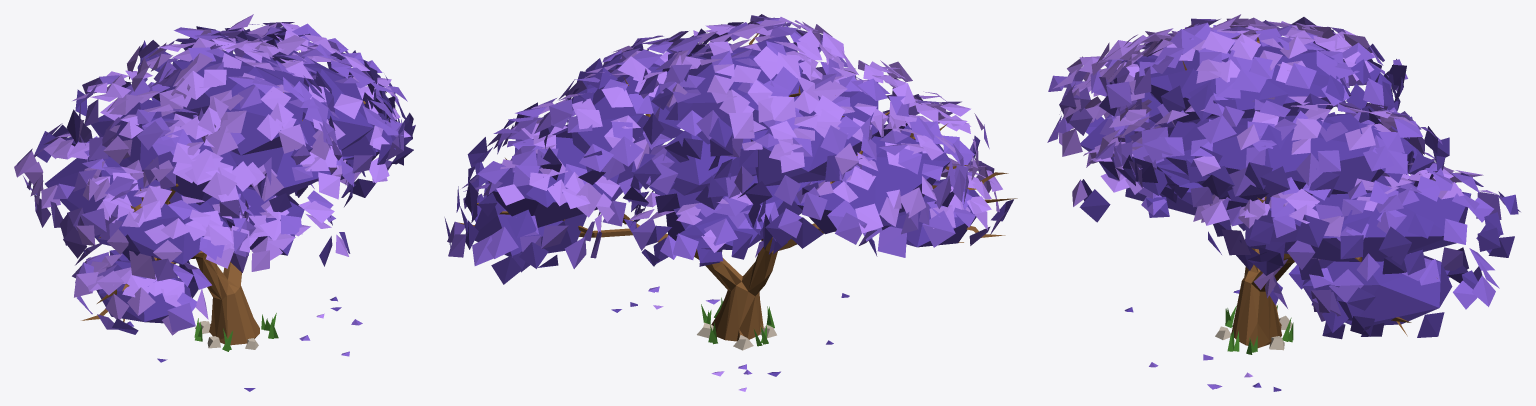
The model's file is jacaranda_1_bloom.glb.
3 renders of one model, left to right at view 1: azimuth 30°, elevation 25°; view 2: azimuth 150°, elevation 25°; view 3: azimuth 270°, elevation 25°, orthographic. The views are drawn at different scales.
Parts seen in each view (by area): view 1: jacaranda_1_bloom; view 2: jacaranda_1_bloom; view 3: jacaranda_1_bloom.
Part boxes in pixels (x1,y1,x2,y2): jacaranda_1_bloom: (14,14,415,391); jacaranda_1_bloom: (444,14,1017,391); jacaranda_1_bloom: (1047,14,1520,391).
Size of the model in its own units: 9.85 by 6.46 by 9.16.
